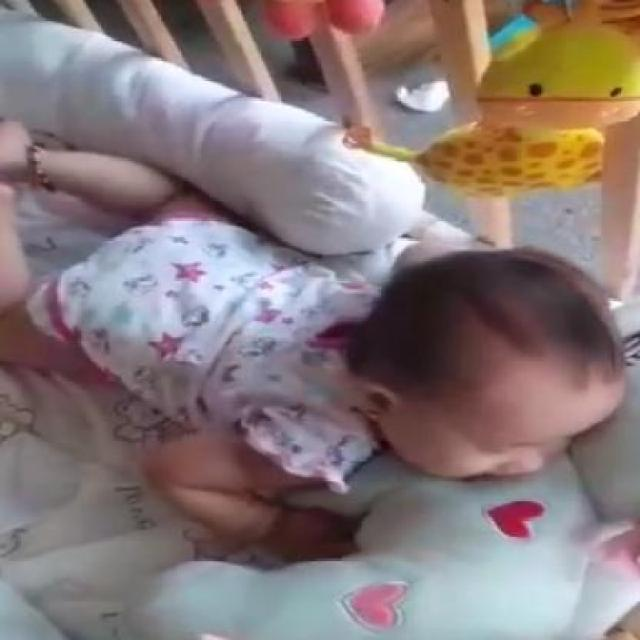baby: (1, 129, 626, 563)
